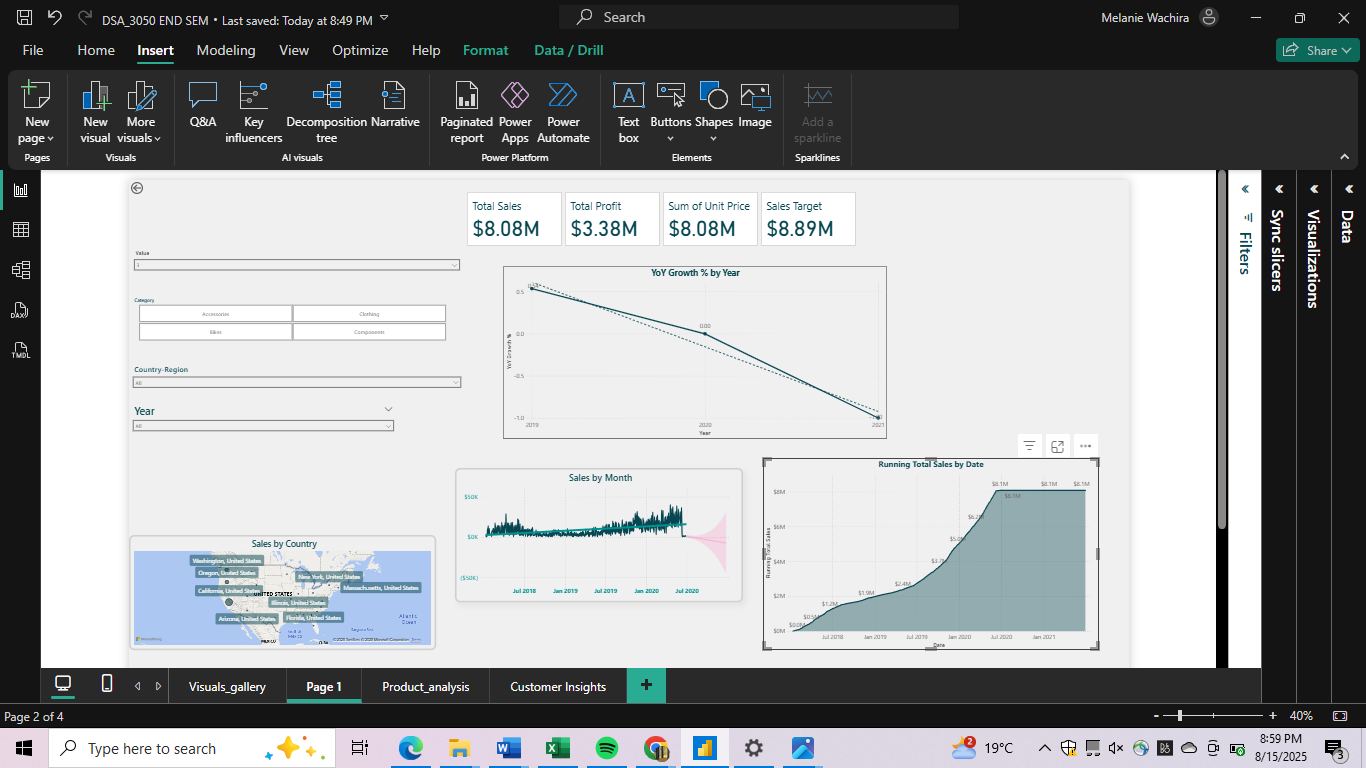

This screenshot's page, from the dashboard's own definition file:
{"tool":"powerbi","page":{"name":"Sales_Overview","canvas":[2500,1700],"ordinal":1},"visuals":[{"type":"lineChart","title":"Sales by Month","fields":{"Y":["Sum(Sales_data.Sales Amount)"],"Category":["Date_data.Date"]},"box":[256,1184,800,512],"z":0},{"type":"map","title":"Sales by Country","fields":{"Category":["Geography.Country-Region Hierarchy.Country-Region","Geography.Country-Region Hierarchy.State-Province","Geography.Country-Region Hierarchy.City"],"Size":["Sum(Sales_data.Profit)"]},"box":[32,704,768,416],"z":1000},{"type":"slicer","fields":{"Values":["Product_data.Category"]},"box":[0,288,816,120],"z":3000},{"type":"slicer","fields":{"Values":["Geography.Country-Region"]},"box":[0,448,832,64],"z":4000},{"type":"actionButton","box":[0,0,100,40],"z":5000},{"type":"cardVisual","fields":{"Data":["Sales_data.Total Sales","Sales_data.Total Profit","Sum(Sales_data.Unit Price)","Sales_data.Sales Target"]},"box":[1056,96,960,160],"z":6000},{"type":"lineChart","fields":{"Category":["Date_data.Year"],"Y":["Customer_data.YoY Growth %"]},"box":[1376,416,960,416],"z":9001},{"type":"areaChart","fields":{"Category":["Date_data.Date"],"Y":["Sales_data.Running Total Sales"]},"box":[1472,992,960,544],"z":9002},{"type":"slicer","fields":{"Values":["TopN_Products.Value"]},"box":[0,168,840,96],"z":9003},{"type":"slicer","fields":{"Values":["Date_data.Year"]},"box":[0,544,832,128],"z":9004},{"type":"textbox","box":[576,0,992,96],"z":9005}]}

Visuals, with their boxes on the page's 2500x1700 design canvas (x1, y1, x2, y2). These are canvas units, not pixel positions in the 1366x768 screenshot, which may show the page scaled, cropped or inside an application window:
"Sales by Month" lineChart: 256, 1184, 1056, 1696
"Sales by Country" map: 32, 704, 800, 1120
slicer - Product_data.Category: 0, 288, 816, 408
slicer - Geography.Country-Region: 0, 448, 832, 512
actionButton: 0, 0, 100, 40
cardVisual - Sales_data.Total Sales x Sales_data.Total Profit: 1056, 96, 2016, 256
lineChart - Date_data.Year x Customer_data.YoY Growth %: 1376, 416, 2336, 832
areaChart - Date_data.Date x Sales_data.Running Total Sales: 1472, 992, 2432, 1536
slicer - TopN_Products.Value: 0, 168, 840, 264
slicer - Date_data.Year: 0, 544, 832, 672
textbox: 576, 0, 1568, 96
